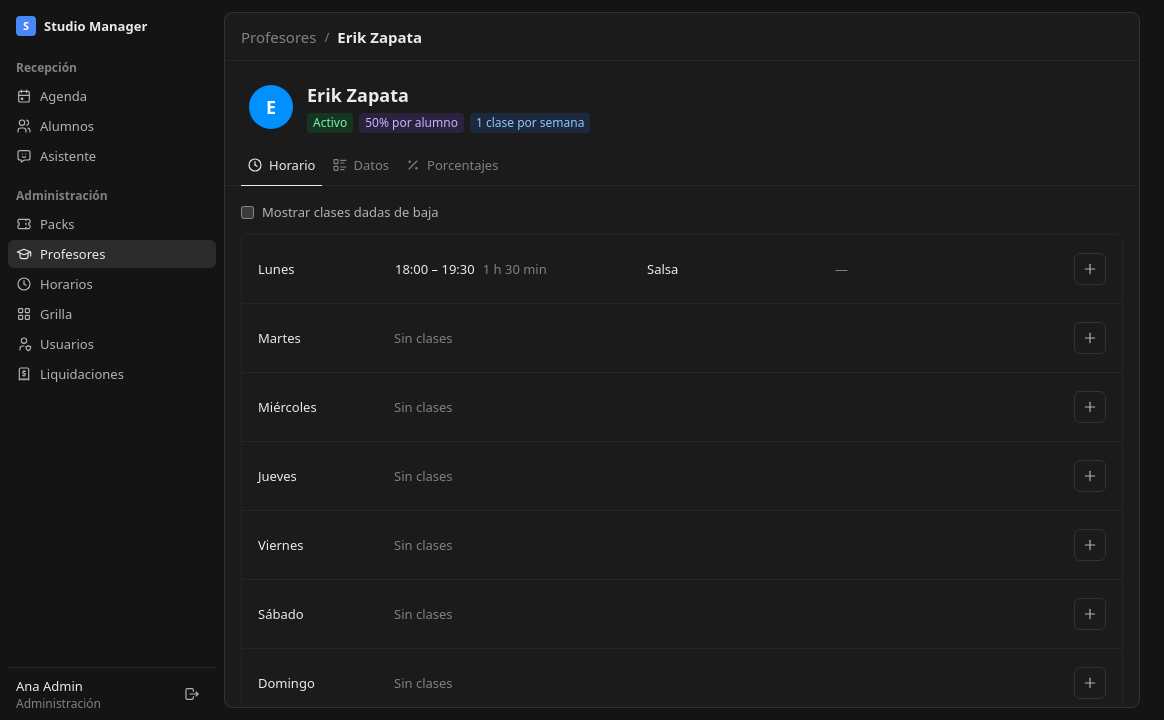
it: /profesores/:id › "Cancelar" en una fila nueva la descarta y no manda nada
The image size is (1164, 720).
Expected: the element "Jueves" is shown, left=242, top=442, right=1122, bottom=511
Click the button named "Agregar una clase el jueves": click(1090, 476) left=1074, top=460, right=1106, bottom=492
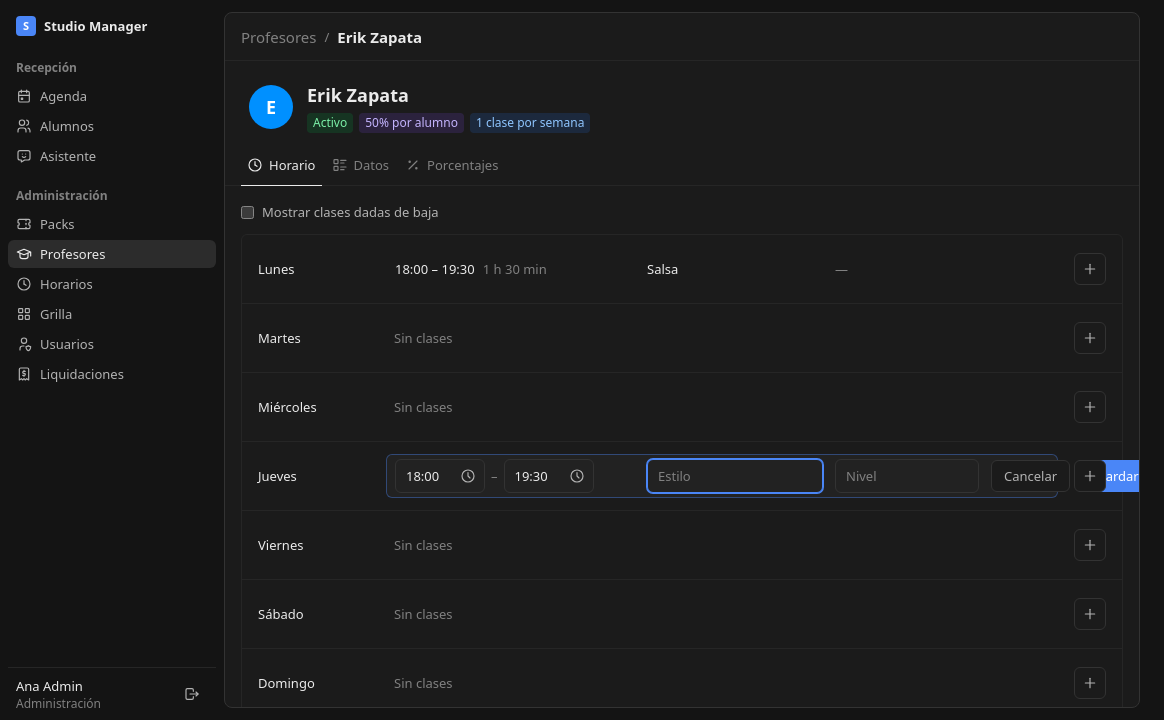
In the field labelled "Estilo": (735, 476) left=647, top=459, right=823, bottom=493, type "Jazz"
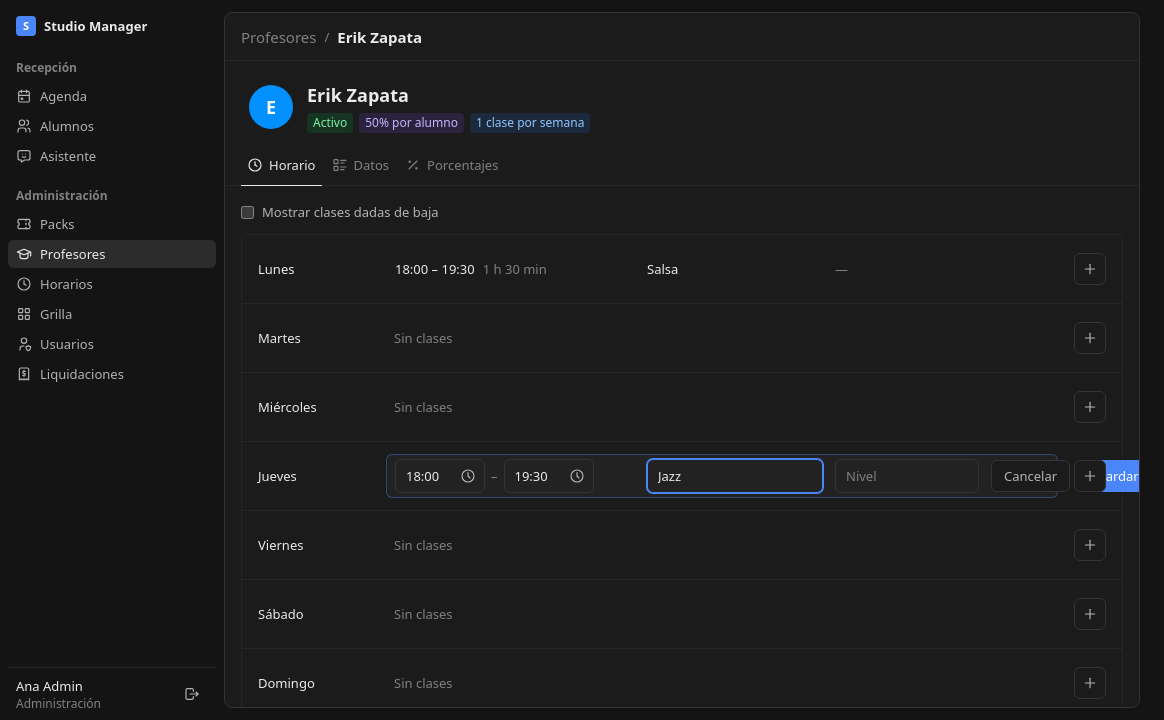
Click the button "Cancelar": click(1031, 476) left=991, top=460, right=1070, bottom=492
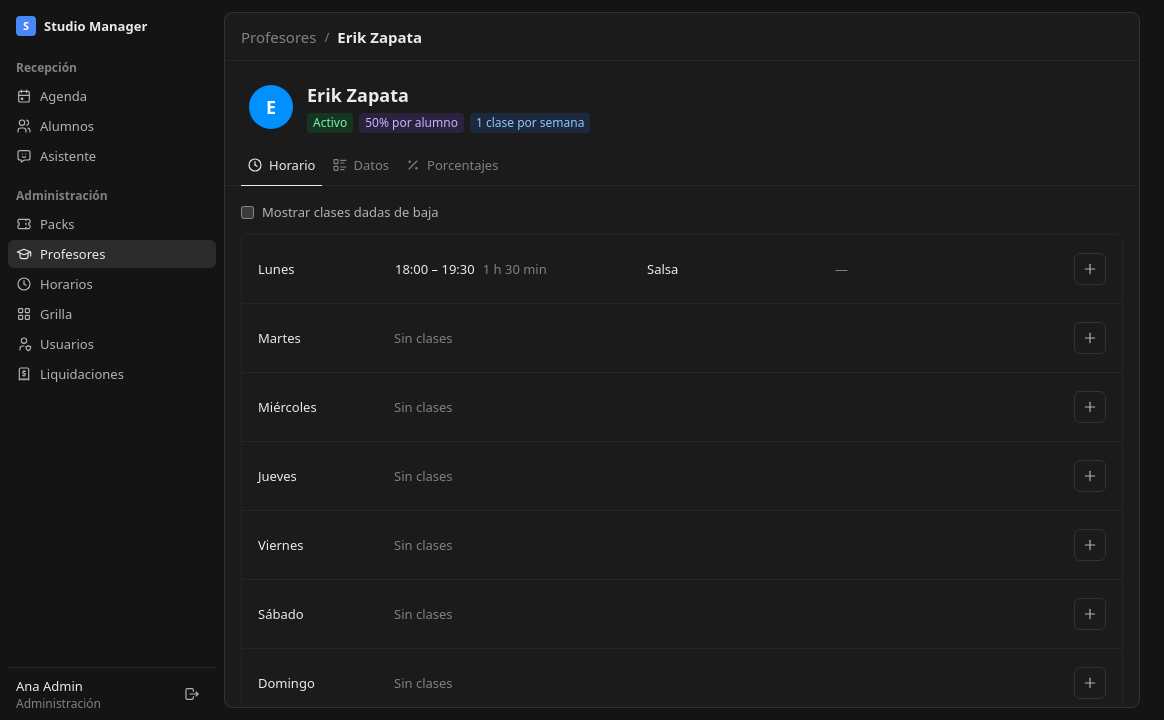
Now the text "Sin clases" next to "Jueves" is shown, box left=394, top=467, right=453, bottom=485
